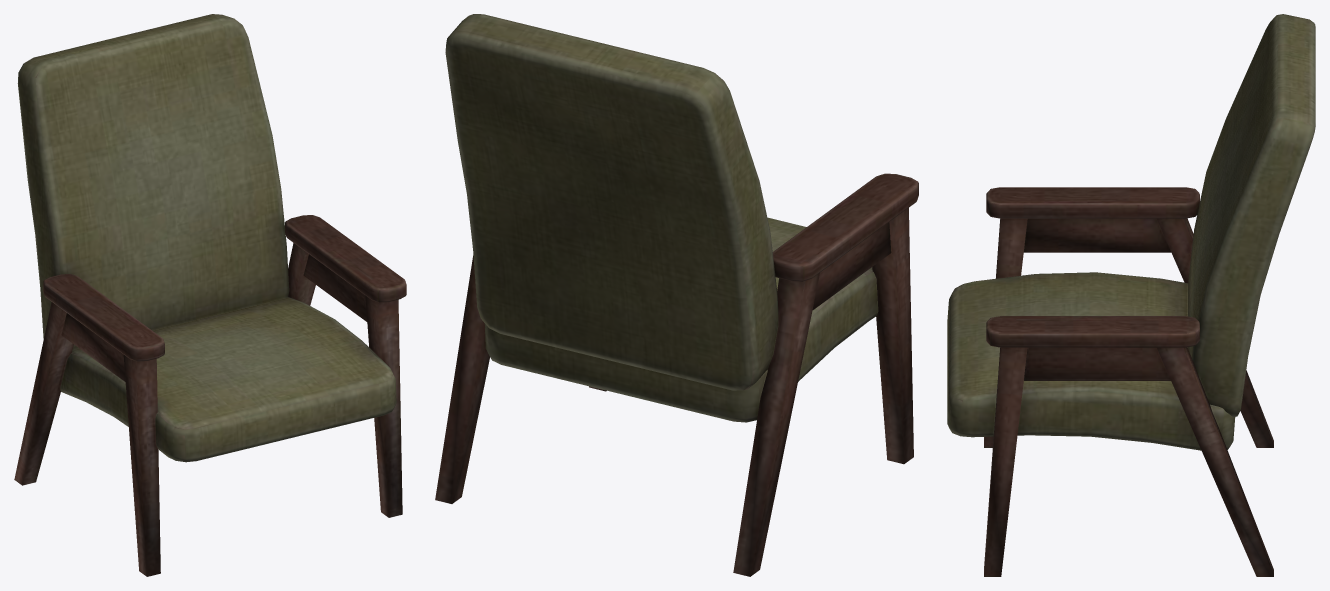
File: kreslo.glb
3 views of the same model, side by side, from view 1: azimuth 30°, elevation 25°; view 2: azimuth 150°, elevation 25°; view 3: azimuth 270°, elevation 25° (orthographic). The views are drawn at different scales.
Visible parts, largest first — view 1: Root; view 2: Root; view 3: Root.
Boxes of the visible parts, bbox=[...] form: Root: bbox=[14, 14, 406, 576]; Root: bbox=[435, 14, 918, 576]; Root: bbox=[947, 14, 1315, 576].
Size of the model in its own units: 0.6254 by 0.88 by 0.6625.
Materials: 1 (1 with a texture image).
